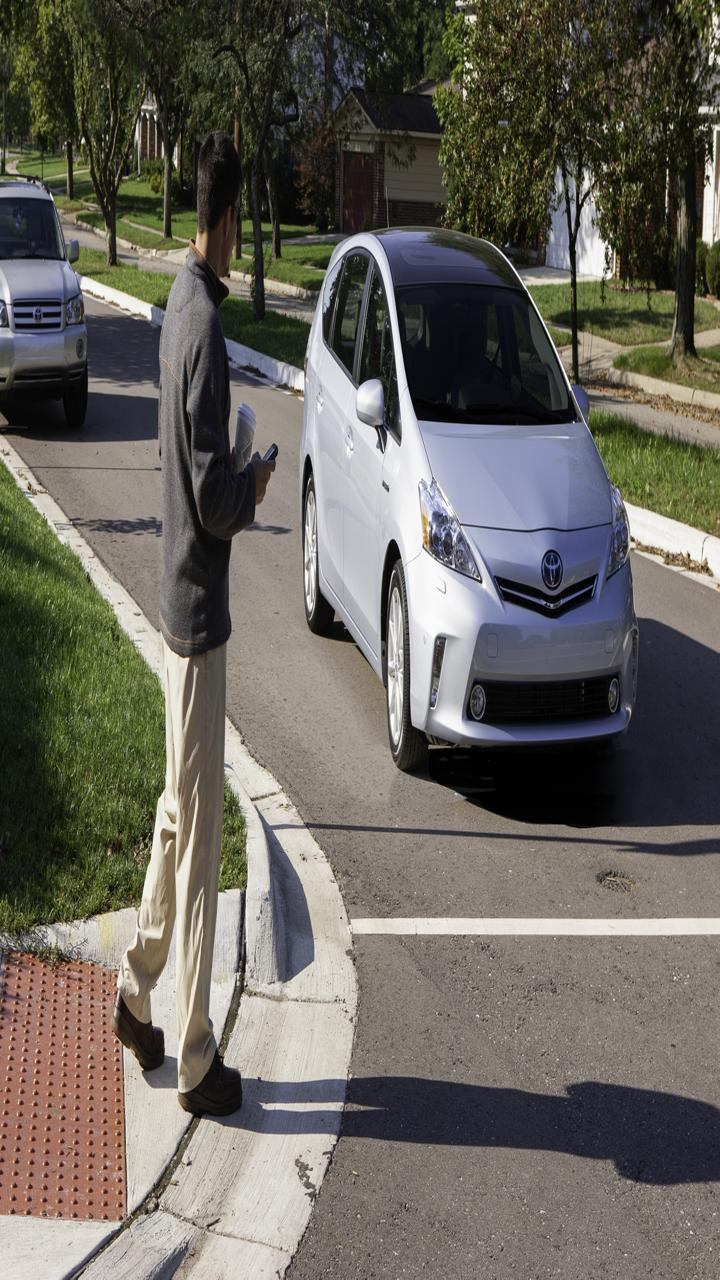pedestrian: (100, 131, 272, 1124)
vehicle: (284, 235, 668, 776), (1, 174, 84, 401)
